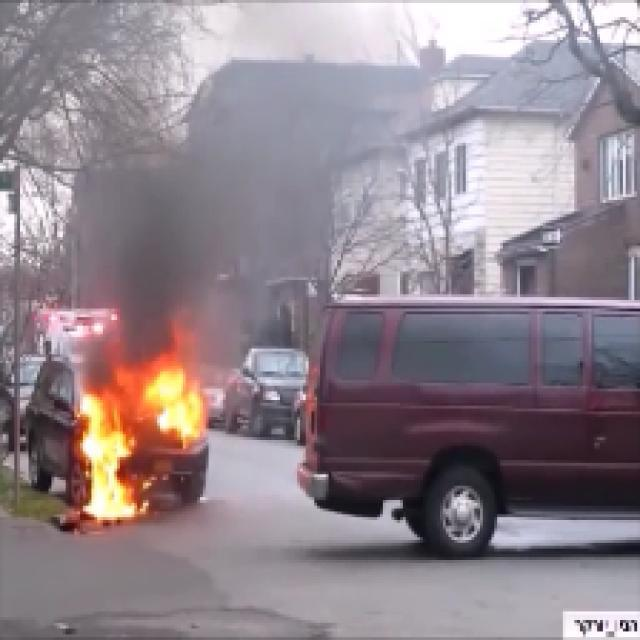Fire: (75, 372, 198, 524)
Smoke: (140, 175, 270, 337), (245, 84, 328, 170)
